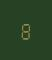eight: (19, 19, 30, 40)
